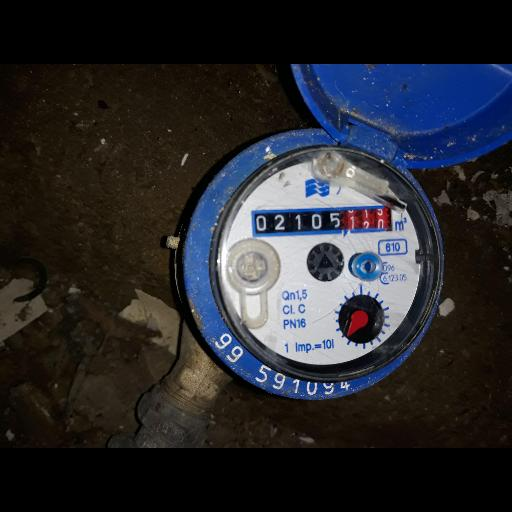0: (307, 209, 328, 233), (253, 214, 271, 235)
1: (289, 211, 309, 234), (359, 208, 376, 230), (344, 208, 360, 230)
2: (270, 212, 291, 234)
5: (325, 208, 346, 232)
9: (374, 207, 389, 232)
border_water_meter_number: (252, 205, 393, 237)
